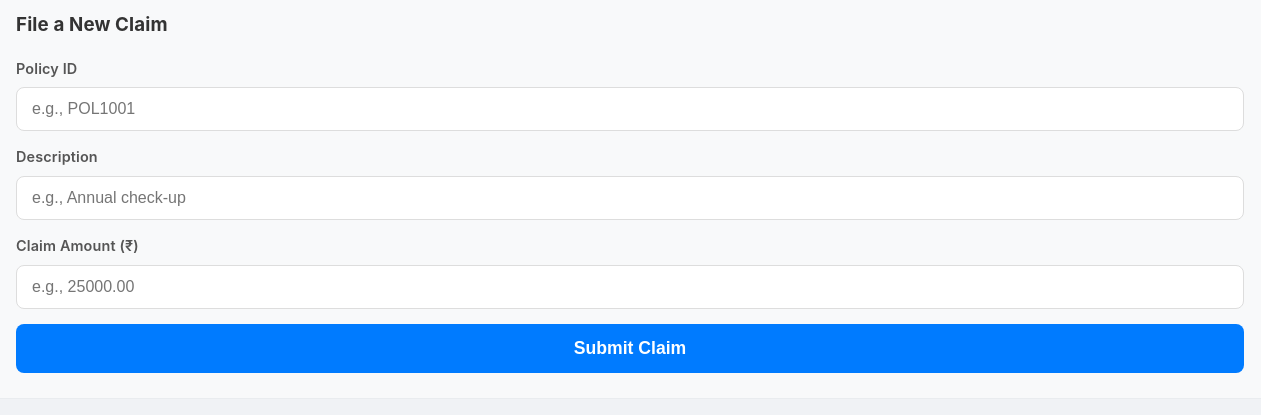
Test case: FileClaim Component › handles network errors
The image size is (1261, 415).
Fill and submit form
Type "POL1001" into the field labelled "Policy ID" at (630, 109), box [16,87,1244,131]
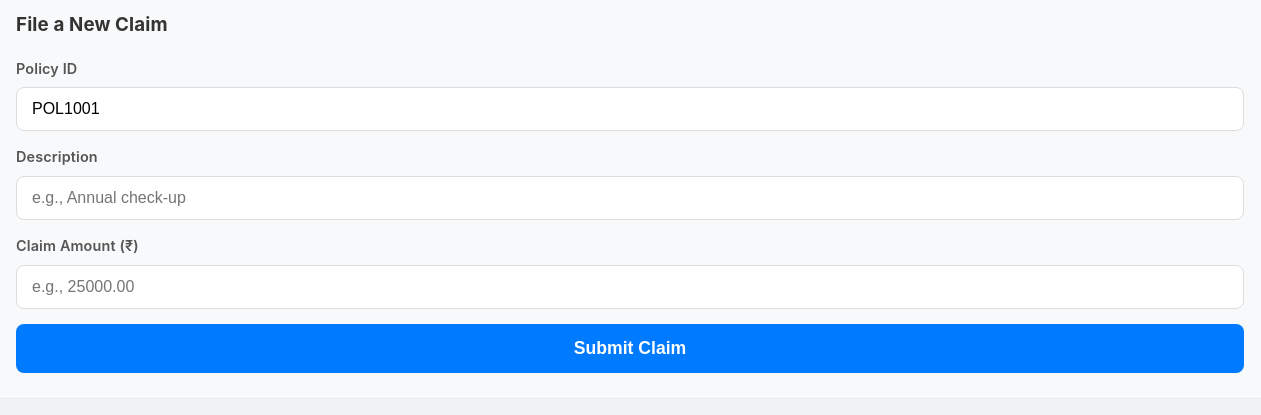
Type "Test" into the field labelled "Description" at (630, 198), box [16,176,1244,220]
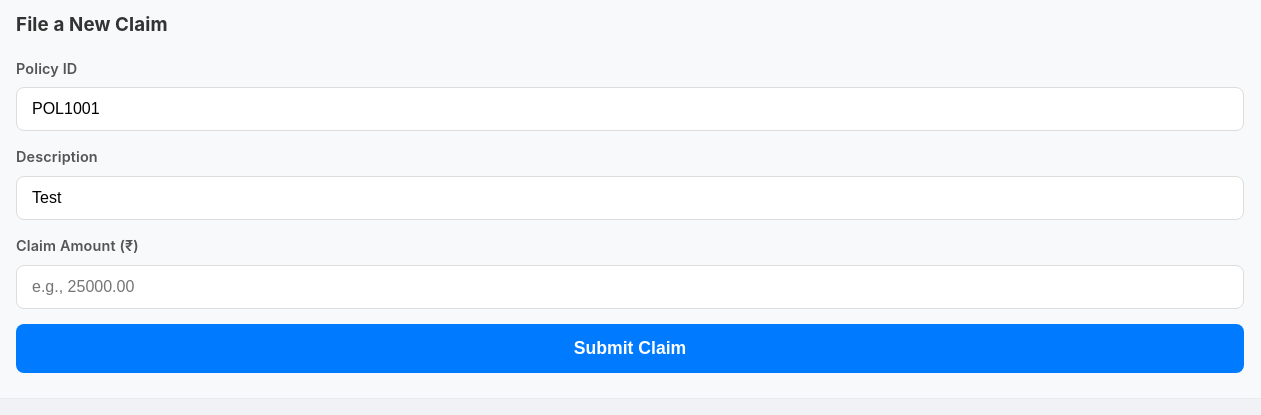
Type "100" into the number field labelled "Claim Amount (₹)" at (630, 287), box [16,265,1244,309]
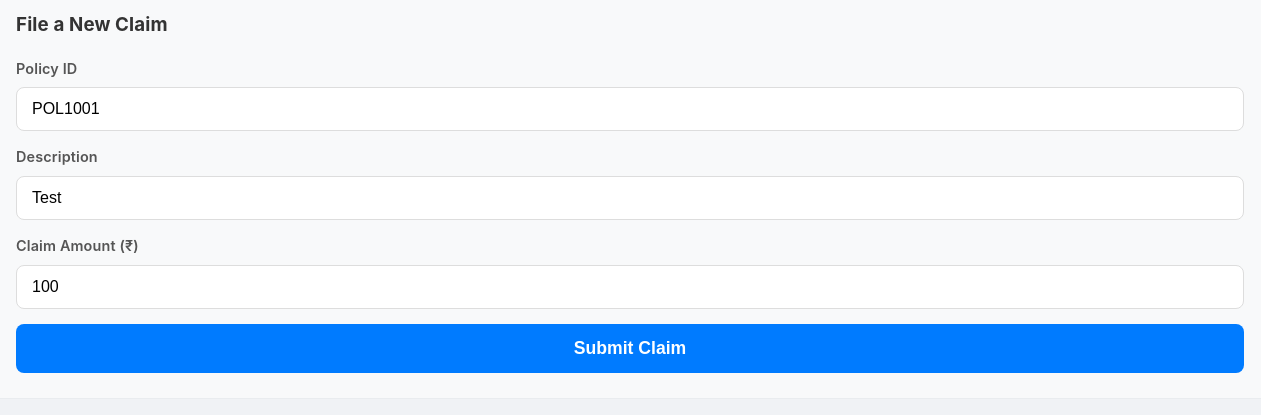
Click the button "Submit Claim" at (630, 348), box [16,324,1244,373]
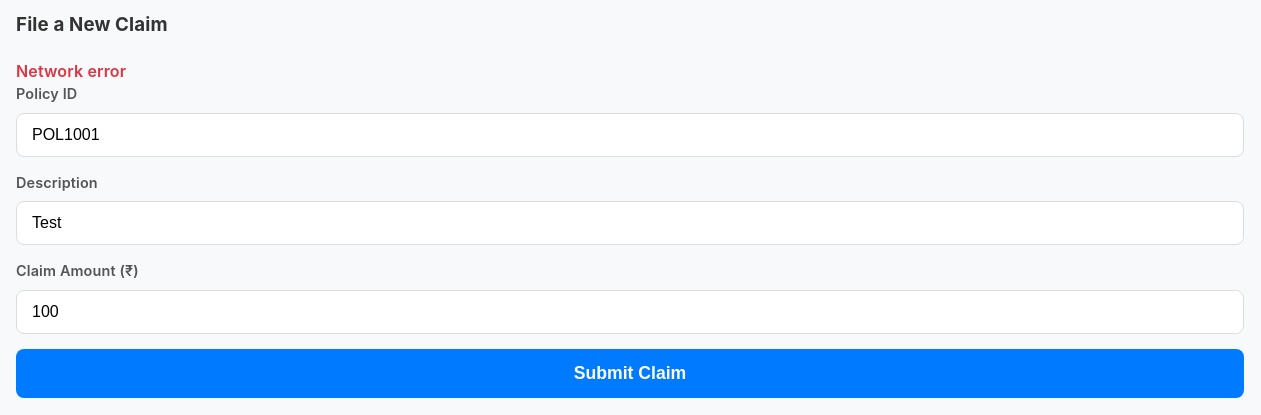
Expected: the text "Network error" is shown, [16,61,126,81]
